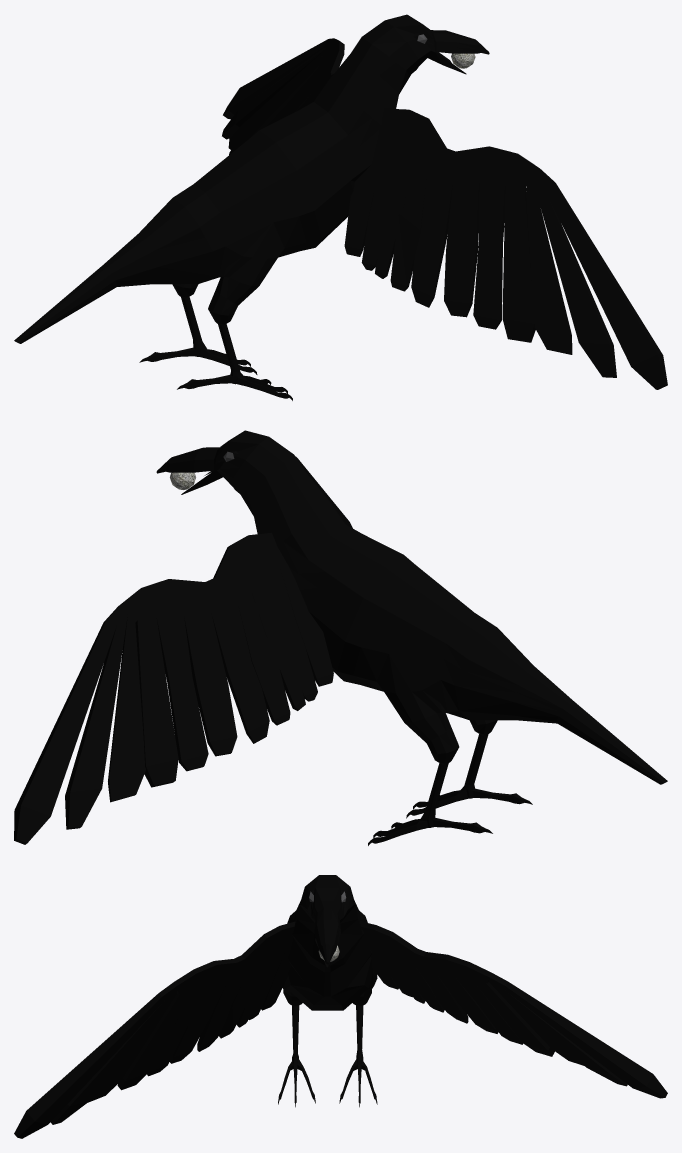
The model's file is crow_up_stone_000002.obj.
The picture shows the model from 3 angles, top to bottom: view 1: azimuth 30°, elevation 25°; view 2: azimuth 150°, elevation 25°; view 3: azimuth 270°, elevation 25°; orthographic projection. The views are drawn at different scales.
Parts seen in each view (by area): view 1: Cylinder; view 2: Cylinder; view 3: Cylinder.
Part boxes in pixels (x1,y1,x2,y2): Cylinder: (14, 14, 667, 400); Cylinder: (14, 430, 667, 845); Cylinder: (14, 875, 667, 1138).
Bounding box in the file's own units: 1.55 × 1.01 × 2.11.
